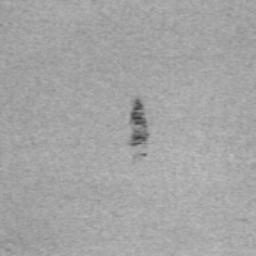Secondary rust skin: (129, 99, 149, 146)
